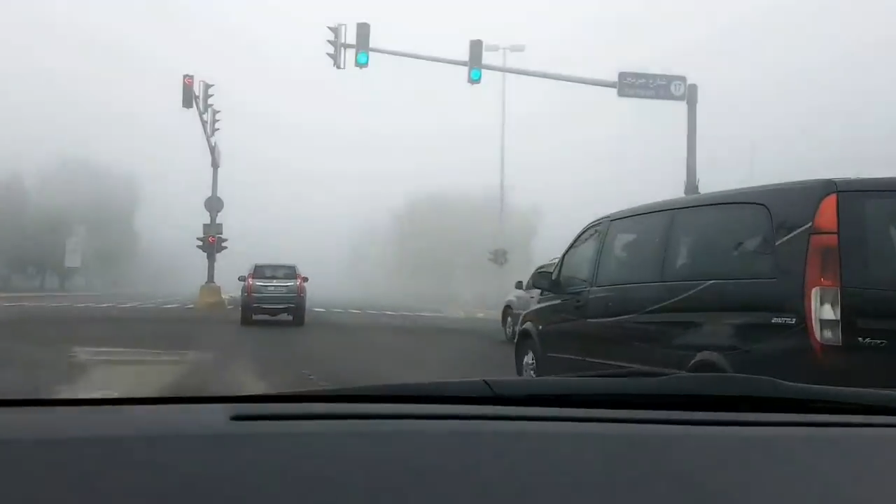car: (513, 174, 896, 406), (499, 253, 650, 348), (238, 262, 309, 325)
